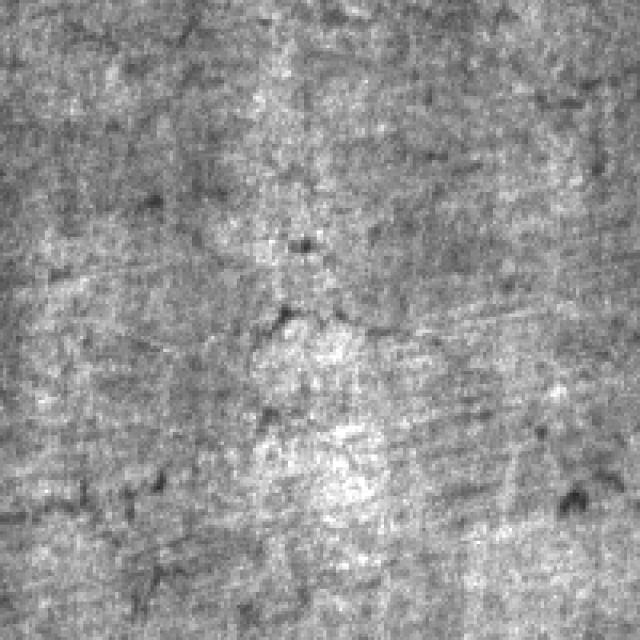crazing: (0, 448, 298, 618), (234, 292, 480, 454)
